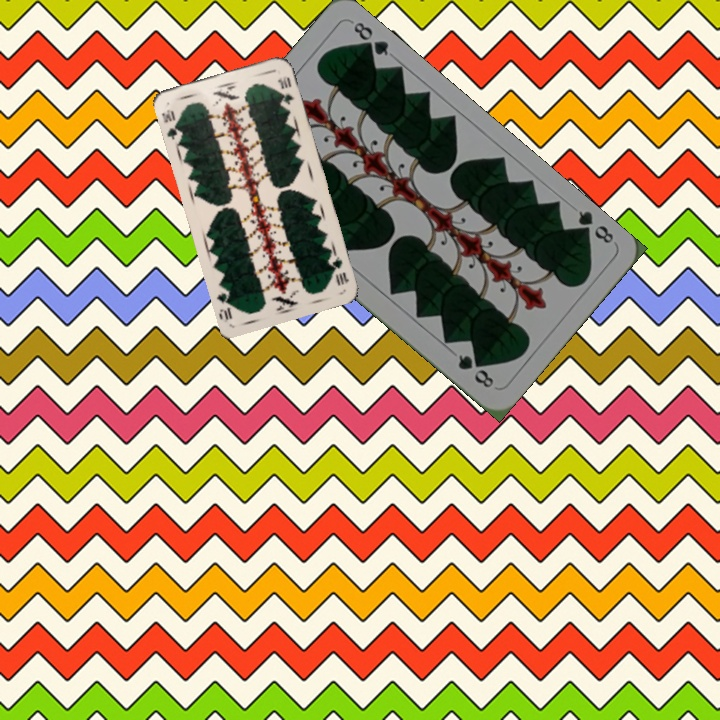G10: (157, 105, 183, 143), (328, 249, 352, 288)
G8: (571, 206, 617, 247)
